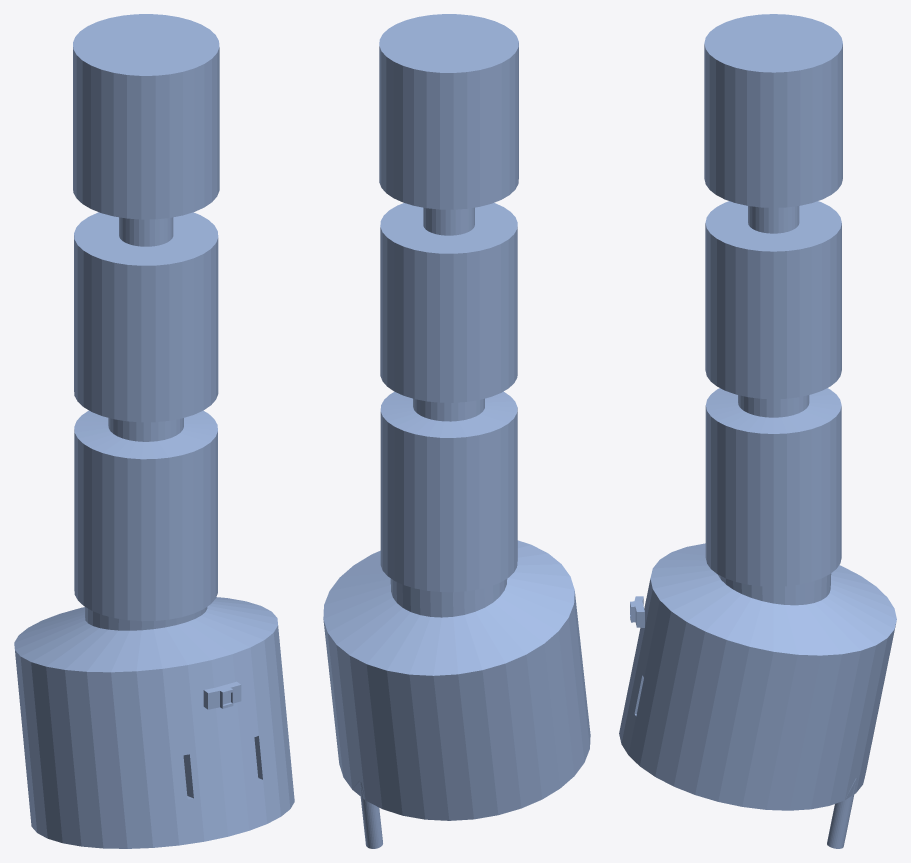
The model's file is Boss_Present.fbx.
3 views of the same model, side by side, from view 1: azimuth 30°, elevation 25°; view 2: azimuth 150°, elevation 25°; view 3: azimuth 270°, elevation 25° (orthographic). The views are drawn at different scales.
Visible parts, largest first — view 1: Boss_Present; view 2: Boss_Present; view 3: Boss_Present.
Boxes of the visible parts, x1=… form: Boss_Present: x1=14, y1=14, x2=294, y2=848; Boss_Present: x1=323, y1=14, x2=590, y2=848; Boss_Present: x1=619, y1=14, x2=896, y2=848.
Bounding box in the file's own units: 3.62 × 12.45 × 4.01.
